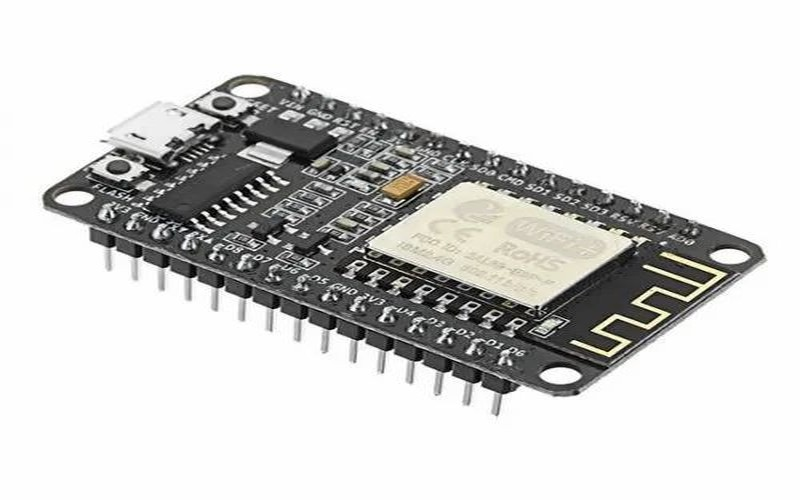IoT Sensor: (19, 60, 779, 417)
